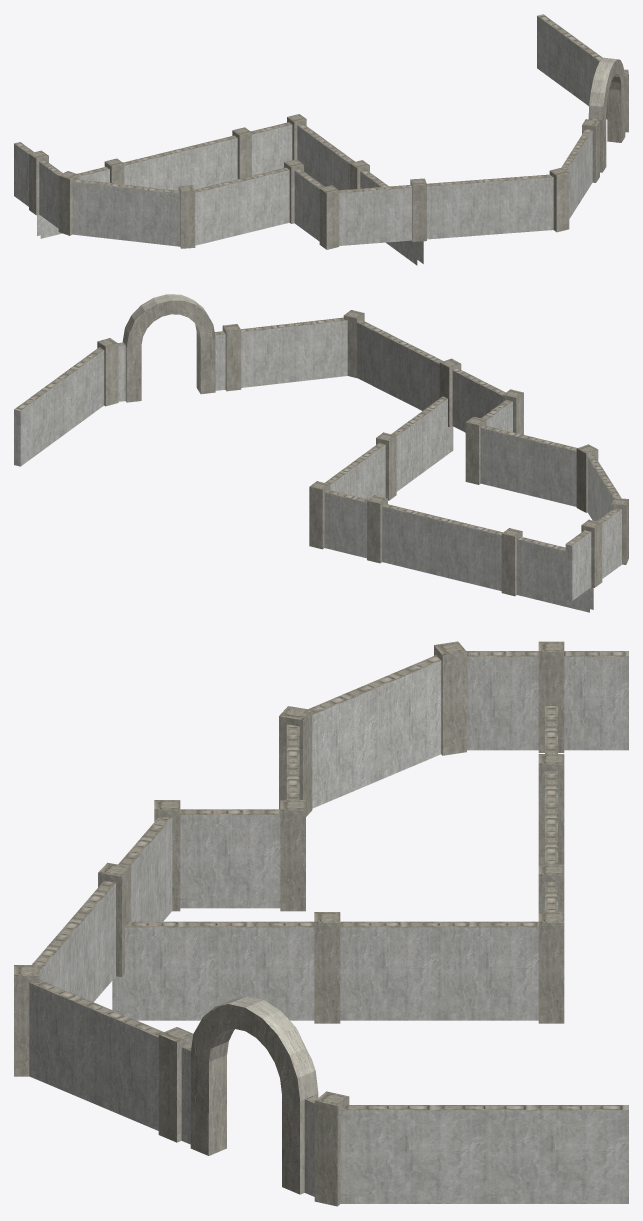
The model's file is poi_corl_corral_half_64x64_s01_l0.fbx.
The picture shows the model from 3 angles, top to bottom: view 1: azimuth 30°, elevation 25°; view 2: azimuth 150°, elevation 25°; view 3: azimuth 270°, elevation 25°; orthographic projection. The views are drawn at different scales.
Visible parts, largest first — view 1: mesh_node; view 2: mesh_node; view 3: mesh_node.
Boxes of the visible parts, left/top/right/bottom form: mesh_node: left=14, top=14, right=628, bottom=265; mesh_node: left=14, top=294, right=628, bottom=612; mesh_node: left=14, top=641, right=628, bottom=1206.
Bounding box in the file's own units: 42.57 × 9 × 23.81.
